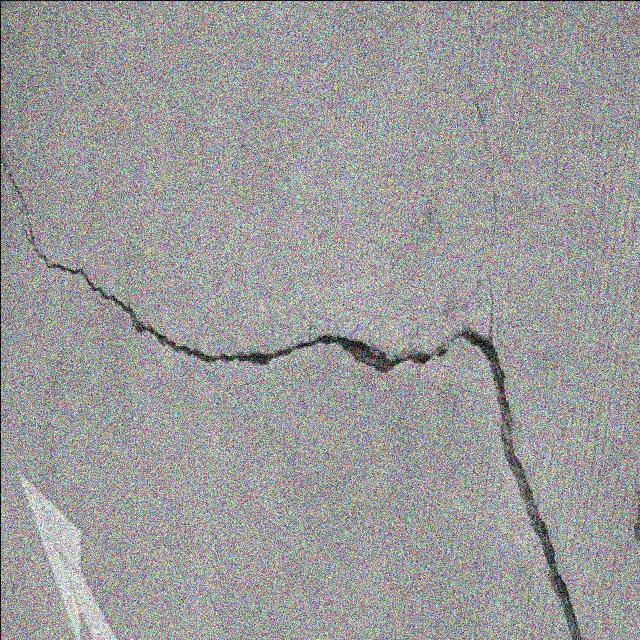SurfaceCrack: (506, 479, 622, 640), (459, 0, 503, 255), (456, 293, 522, 447), (66, 303, 183, 385), (297, 298, 393, 394), (187, 302, 274, 386), (28, 221, 118, 297), (392, 312, 455, 381), (490, 434, 549, 481), (0, 171, 44, 219)
